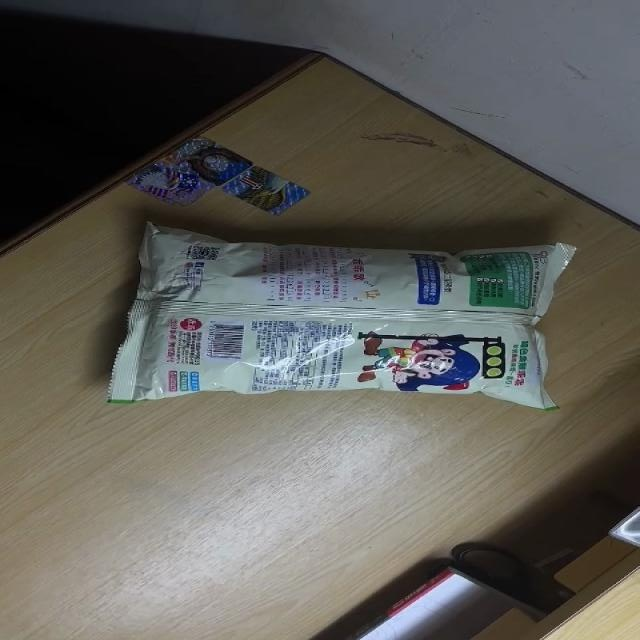Good-Luck: (102, 221, 576, 407)
